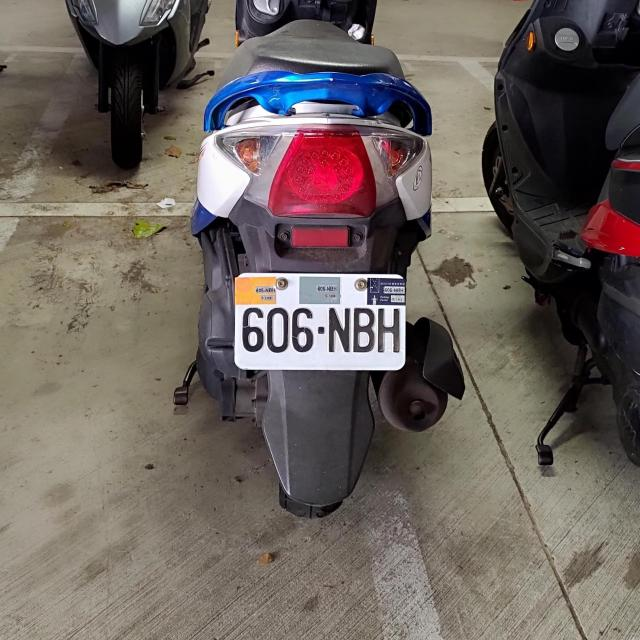W: (234, 274, 405, 369)
